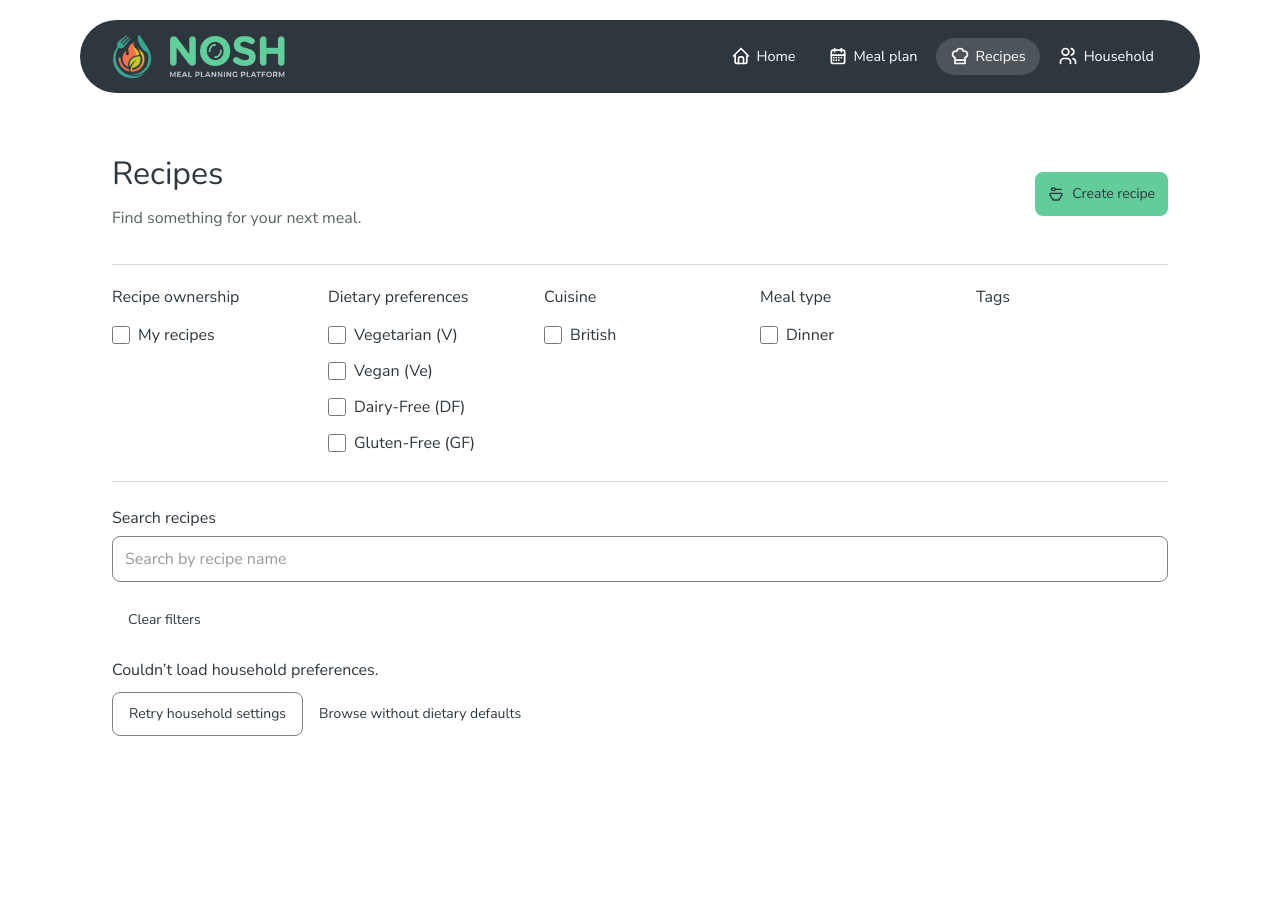
Test: waits for household defaults and offers explicit browsing after a settings failure
What coordinates should you click on to do the following:
click the button "Browse without dietary defaults"
I would click on:
 (420, 714)
Its box is [303,692,537,736].
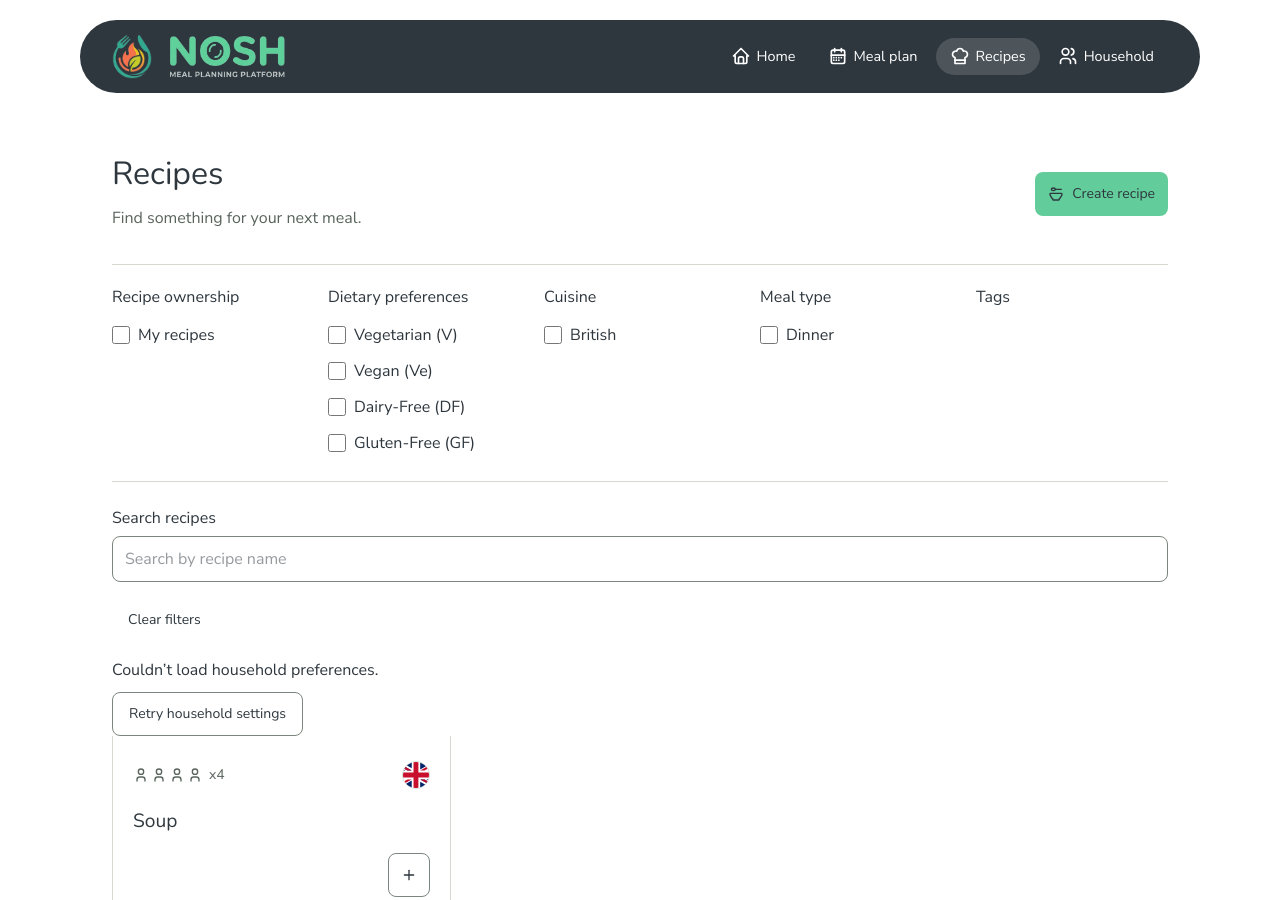
Check: the link "Soup" is shown, box [133,808,177,834]
